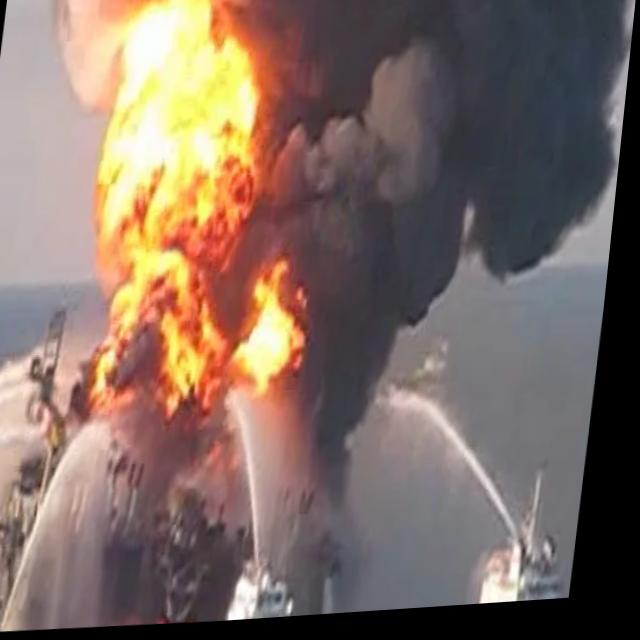Fire: (26, 0, 330, 433)
